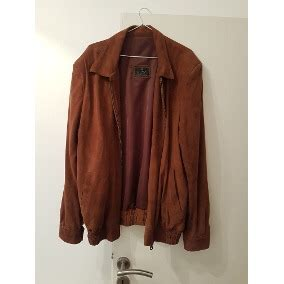gamuza: (60, 25, 211, 251)
